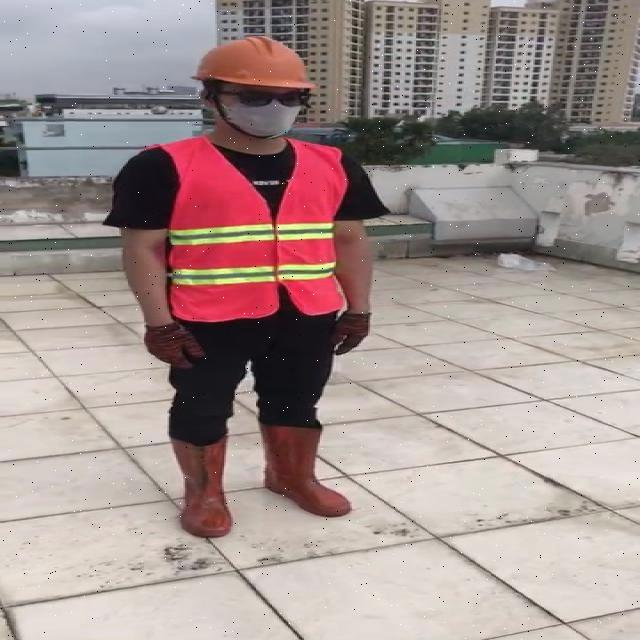Hard_hat: (188, 30, 321, 101)
Vest: (163, 133, 346, 328)
